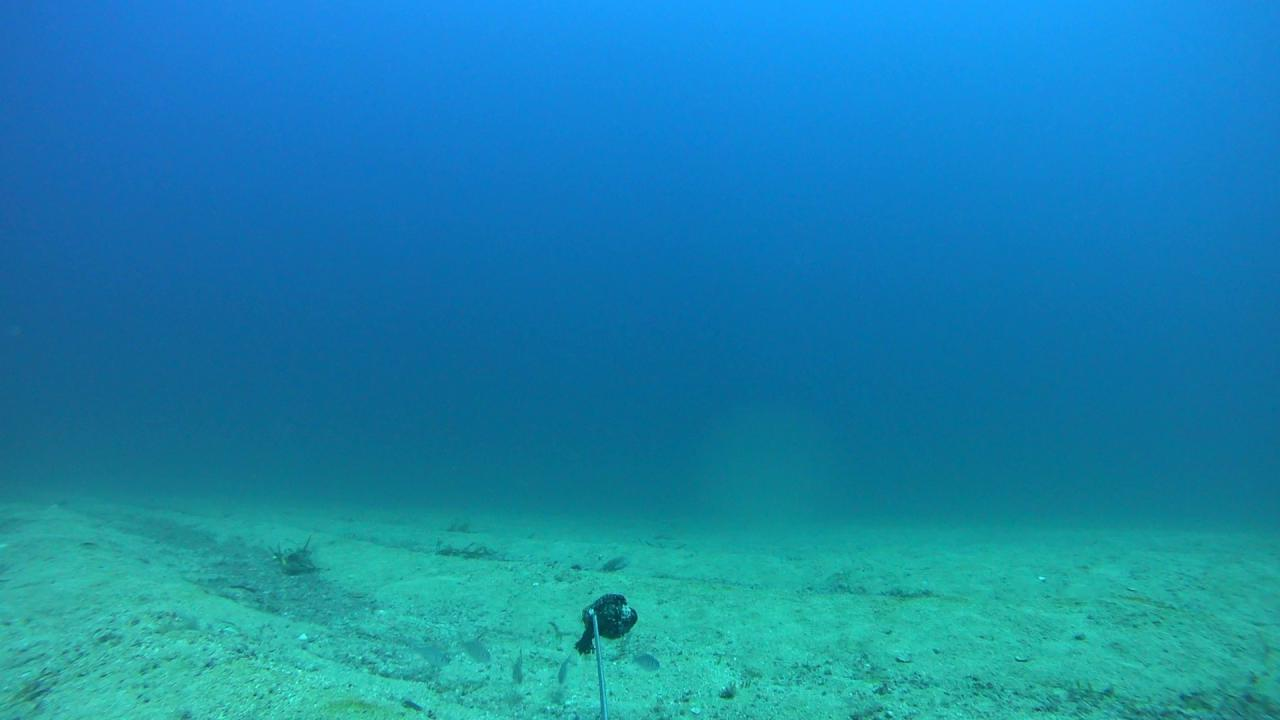pagellus: (402, 643, 452, 670), (454, 635, 488, 663), (631, 656, 665, 671)
